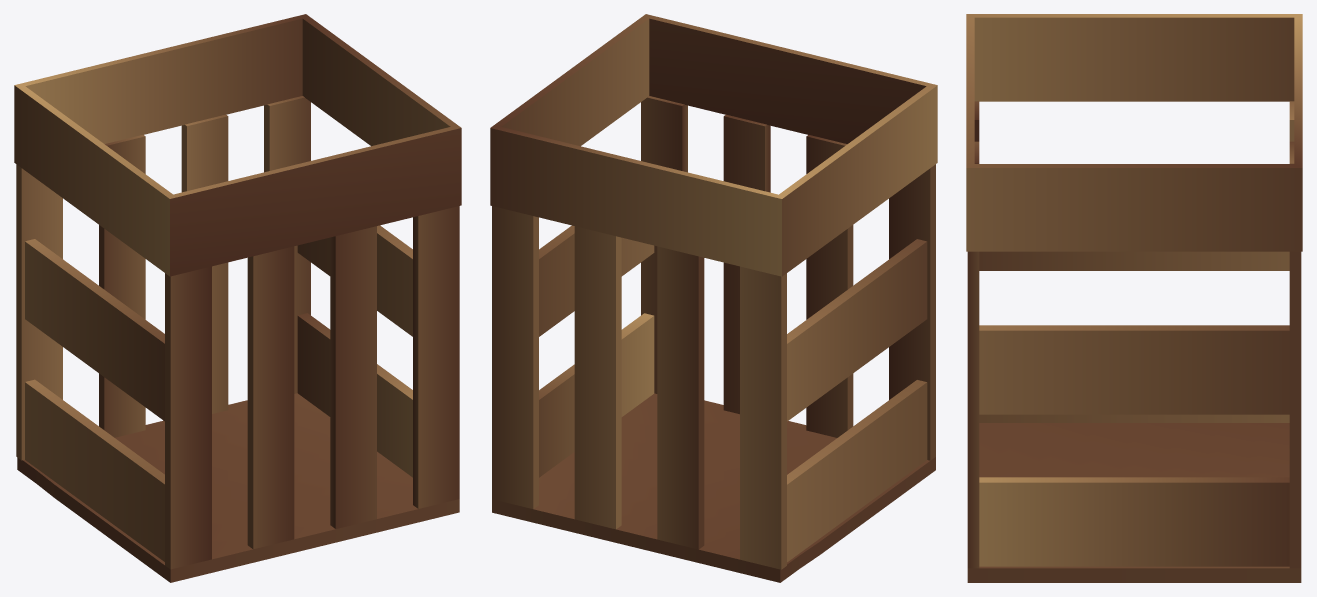
Rendered from Tall Light Crate No Lid.fbx.
3 views of the same model, side by side, from view 1: azimuth 30°, elevation 25°; view 2: azimuth 150°, elevation 25°; view 3: azimuth 270°, elevation 25° (orthographic). The views are drawn at different scales.
Parts seen in each view (by area): view 1: Tall Light Crate No Lid; view 2: Tall Light Crate No Lid; view 3: Tall Light Crate No Lid.
Part boxes in pixels (box(x1,y1,x2,y2)): Tall Light Crate No Lid: box(14, 14, 461, 582); Tall Light Crate No Lid: box(490, 14, 937, 582); Tall Light Crate No Lid: box(966, 14, 1302, 582).
Size of the model in its own units: 284 by 208 by 225.
1 material, 1 textured.
